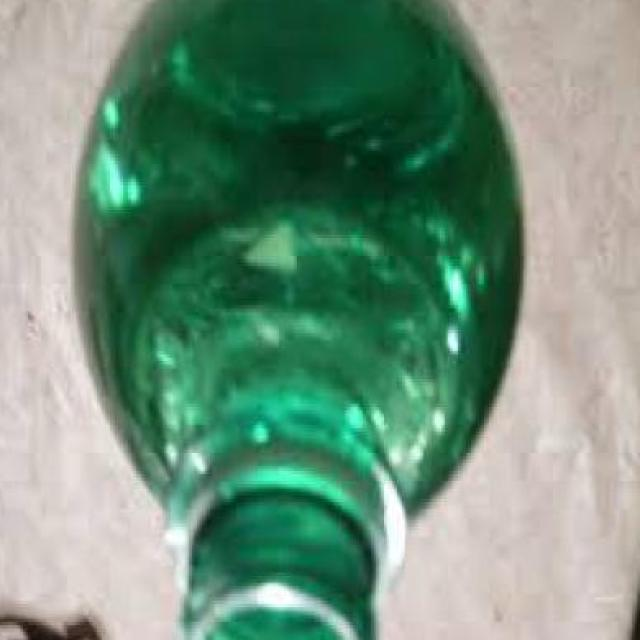kaca: (80, 0, 526, 640)
